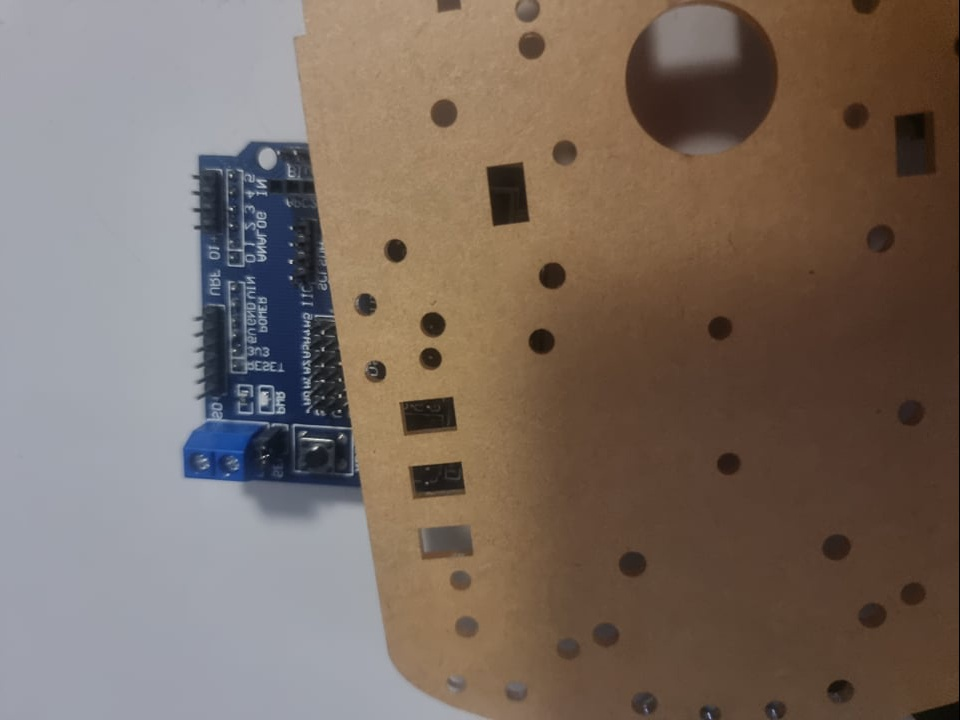5V EXPANSION: (180, 128, 362, 497)
